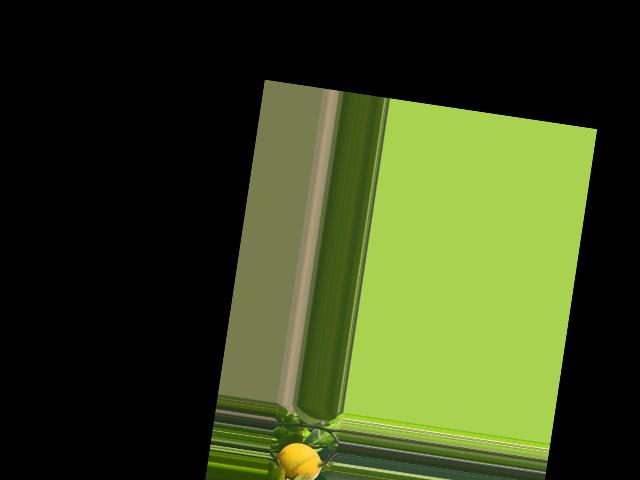lemon: (274, 439, 327, 480)
